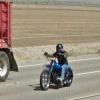Motorcycle: (30, 40, 76, 95)
